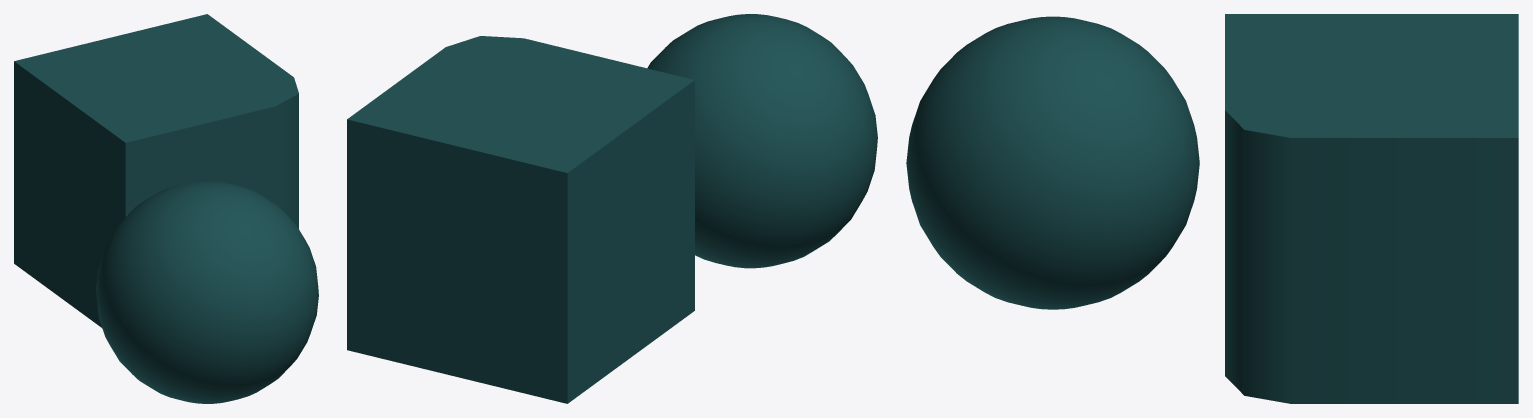
Rendered from demo.glb.
The picture shows the model from 3 angles, left to right: view 1: azimuth 30°, elevation 25°; view 2: azimuth 150°, elevation 25°; view 3: azimuth 270°, elevation 25°; orthographic projection. The views are drawn at different scales.
Visible parts, largest first — view 1: Cube, Esfera; view 2: Cube, Esfera; view 3: Cube, Esfera.
Part boxes in pixels (<box>): Cube: <box>14,14,298,327</box>; Esfera: <box>96,181,318,403</box>; Cube: <box>347,36,694,403</box>; Esfera: <box>647,14,877,268</box>; Cube: <box>1225,14,1518,403</box>; Esfera: <box>906,16,1199,309</box>.
Size of the model in its own units: 2.83 by 2.04 by 4.17.
